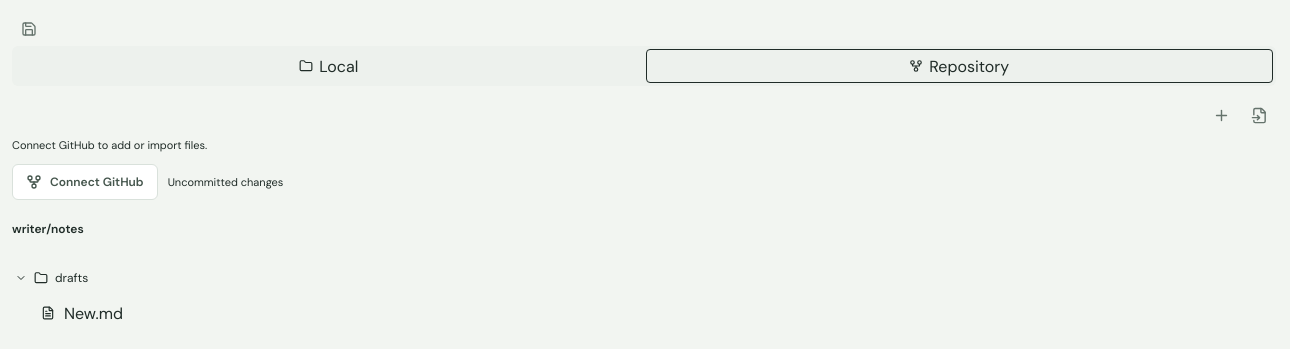
Test: GitHub workspace › selects unpublished repo drafts from the tree without downloading or exposing them in Local
Click the button "New.md".
click(93, 313)  # box [33, 295, 1261, 332]
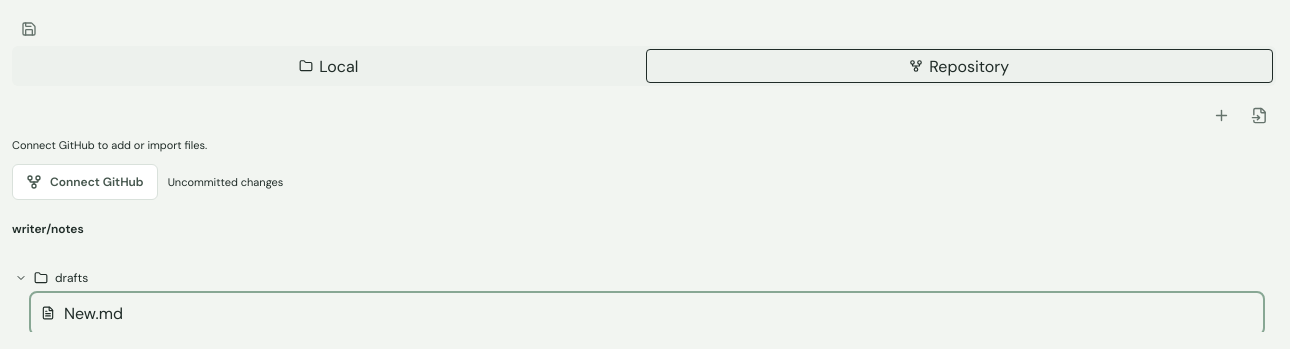
Click the button "Local".
click(329, 66)  # box [15, 49, 642, 83]
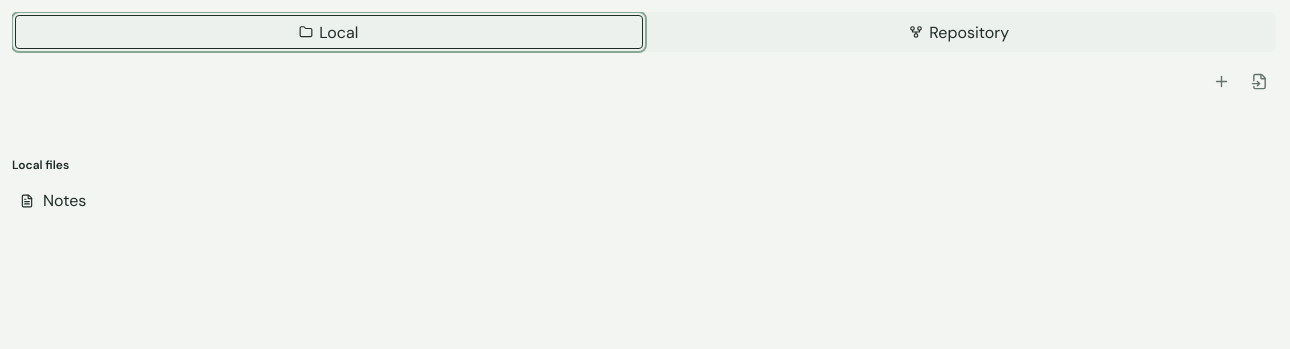
Check: the number of buttons with class "github-row" is 1, box [12, 182, 1261, 219]
Check: the button "New.md" is gone
